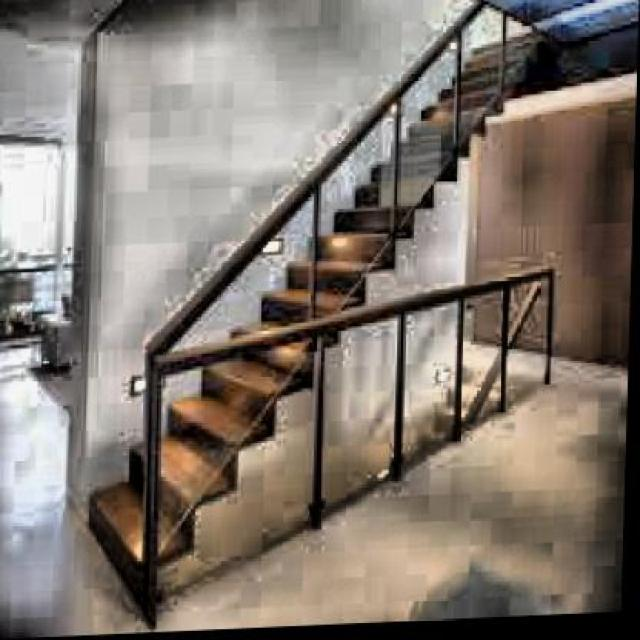stair: (80, 34, 557, 603)
